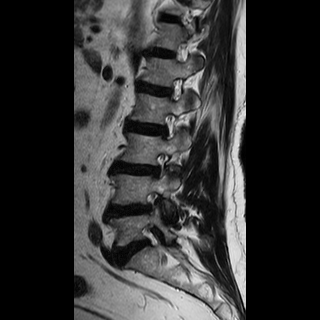LFS0: (156, 109, 180, 144), (162, 73, 186, 106)
LFS1: (145, 147, 172, 183)
LFS2: (137, 188, 167, 222)
